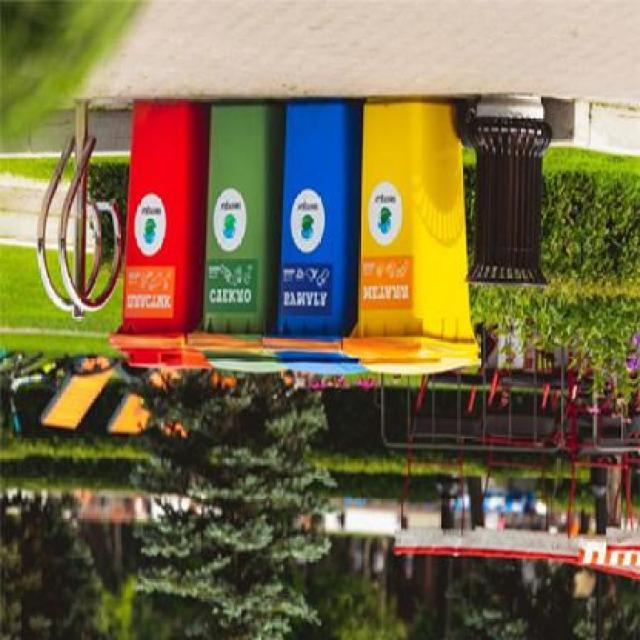garbage container: (359, 92, 487, 385), (107, 100, 207, 379), (275, 91, 358, 384), (207, 93, 283, 379)
